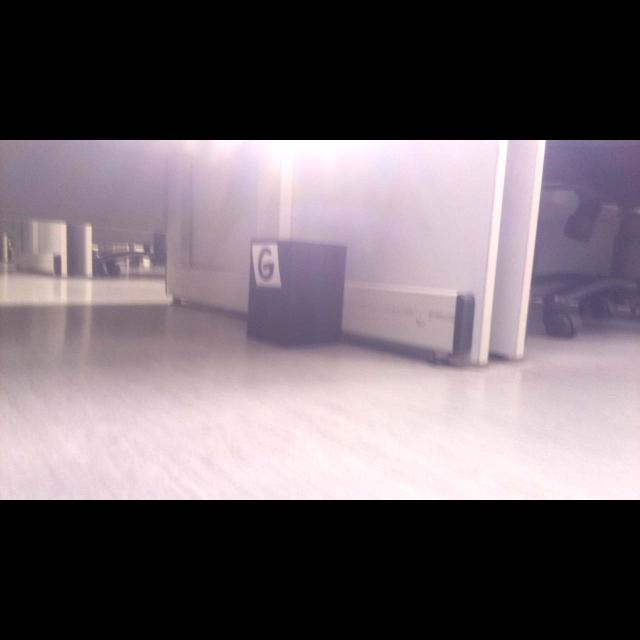G: (258, 249, 274, 282)
